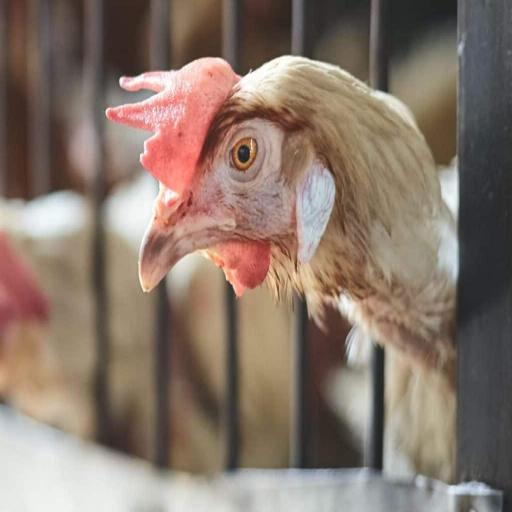healthy: (179, 68, 328, 250)
